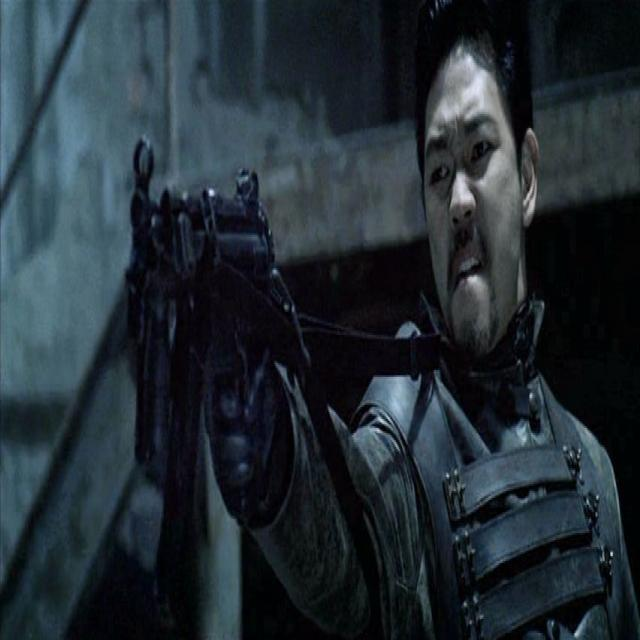gun-knife-thesis - v11 Yolov5 augmented: (121, 112, 292, 608)
